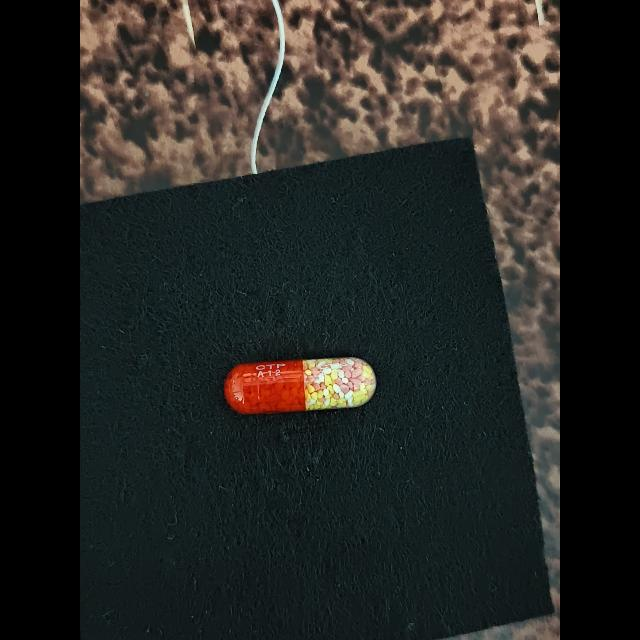Intact Capsule: (224, 357, 377, 414)
